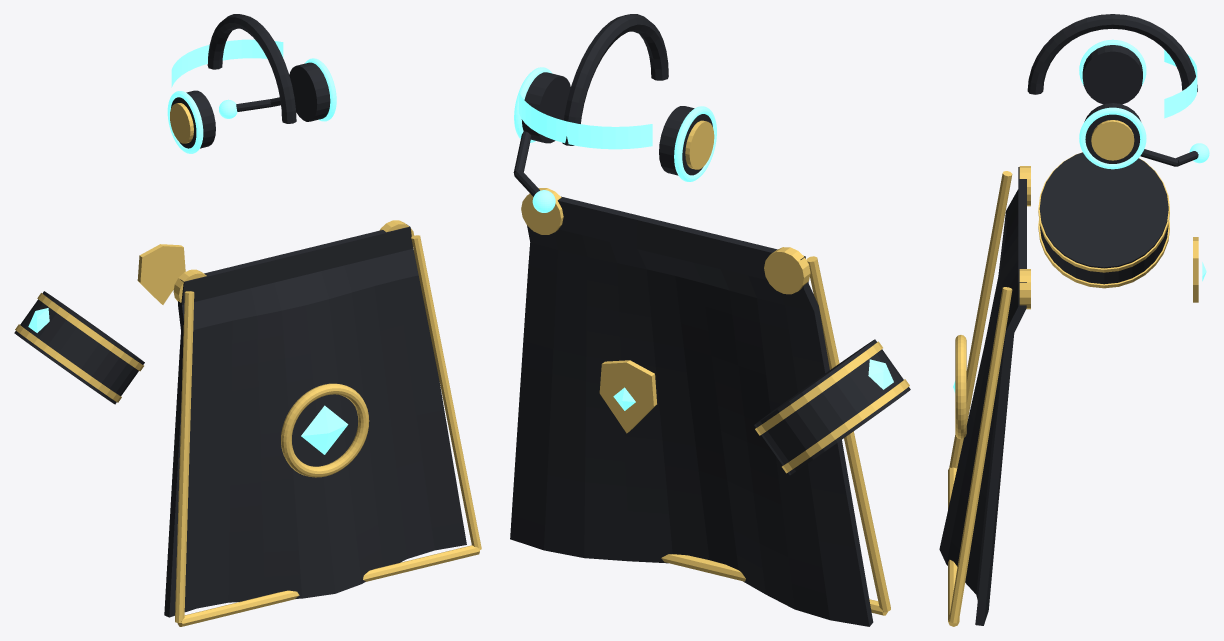
Rendered from staff.glb.
3 views of the same model, side by side, from view 1: azimuth 30°, elevation 25°; view 2: azimuth 150°, elevation 25°; view 3: azimuth 270°, elevation 25° (orthographic). The views are drawn at different scales.
Parts seen in each view (by area): view 1: acc_staffcape, acc_staffcasque, acc_staffbrassard, acc_staffbadge; view 2: acc_staffcape, acc_staffcasque, acc_staffbrassard, acc_staffbadge; view 3: acc_staffcape, acc_staffbrassard, acc_staffcasque, acc_staffbadge.
Part boxes in pixels (x1=…): acc_staffcape: x1=164, y1=220, x2=481, y2=626; acc_staffcasque: x1=167, y1=14, x2=336, y2=153; acc_staffbrassard: x1=14, y1=291, x2=144, y2=404; acc_staffbadge: x1=137, y1=244, x2=185, y2=304; acc_staffcape: x1=510, y1=188, x2=890, y2=626; acc_staffcasque: x1=513, y1=14, x2=716, y2=212; acc_staffbrassard: x1=754, y1=339, x2=910, y2=475; acc_staffbadge: x1=599, y1=360, x2=656, y2=433; acc_staffcape: x1=939, y1=166, x2=1030, y2=626; acc_staffbrassard: x1=1038, y1=152, x2=1169, y2=288; acc_staffcasque: x1=1027, y1=14, x2=1209, y2=169; acc_staffbadge: x1=1193, y1=237, x2=1206, y2=302.
Bounding box in the file's own units: 0.6456 × 0.827 × 0.377.
